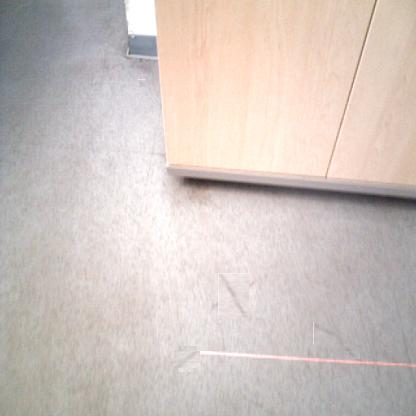mark: (214, 276, 252, 314), (313, 322, 342, 344), (176, 348, 198, 370), (346, 346, 360, 360), (139, 79, 146, 87)
